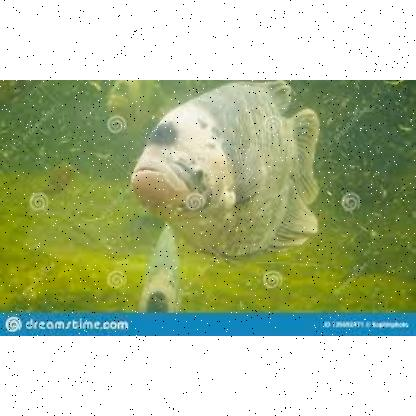gurame: (132, 80, 320, 258)
